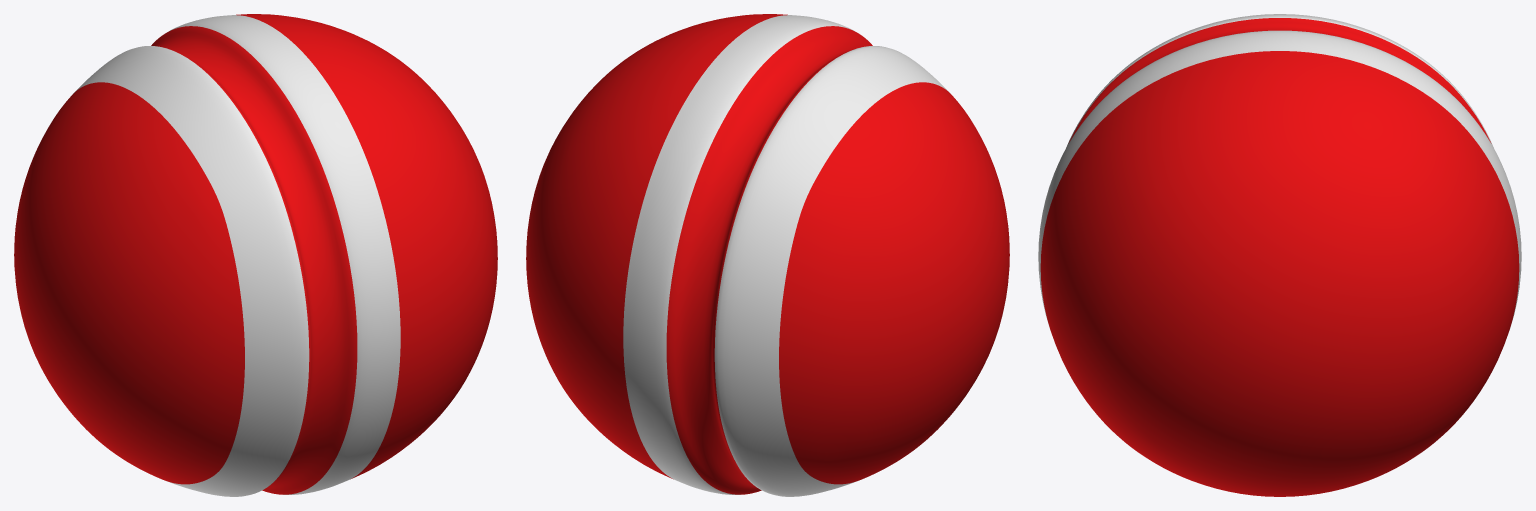
File: resulta 3.fbx
The picture shows the model from 3 angles, left to right: view 1: azimuth 30°, elevation 25°; view 2: azimuth 150°, elevation 25°; view 3: azimuth 270°, elevation 25°; orthographic projection.
Visible parts, largest first — view 1: Cube; view 2: Cube; view 3: Cube.
Boxes of the visible parts, left/top/right/bottom form: Cube: left=14, top=14, right=497, bottom=496; Cube: left=526, top=14, right=1009, bottom=496; Cube: left=1038, top=14, right=1521, bottom=496.
Size of the model in its own units: 9804 by 9866 by 9866.
